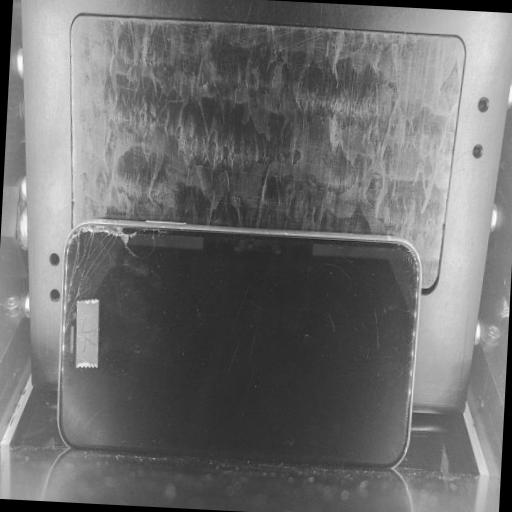phone: (41, 228, 436, 466)
